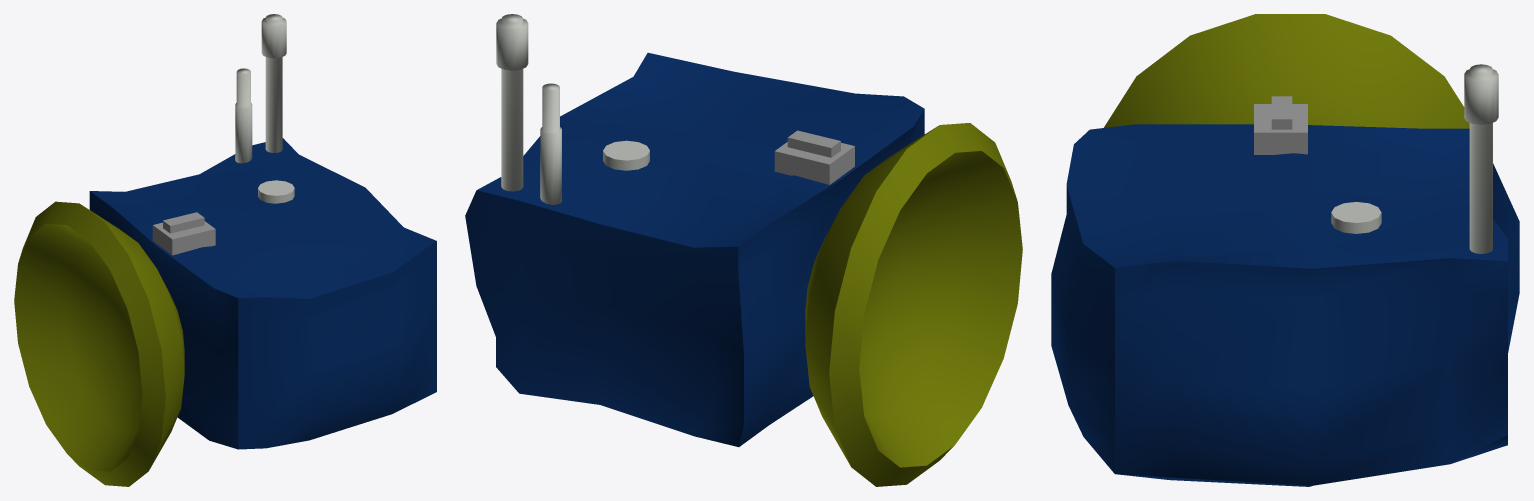
The model's file is debris4.FBX.
The picture shows the model from 3 angles, left to right: view 1: azimuth 30°, elevation 25°; view 2: azimuth 150°, elevation 25°; view 3: azimuth 270°, elevation 25°; orthographic projection. The views are drawn at different scales.
Parts seen in each view (by area): view 1: Box002; view 2: Box002; view 3: Box002.
Part boxes in pixels (<box>): Box002: <box>14,14,436,486</box>; Box002: <box>465,14,1022,486</box>; Box002: <box>1051,14,1519,486</box>.
Size of the model in its own units: 74.31 by 76.08 by 68.48.
